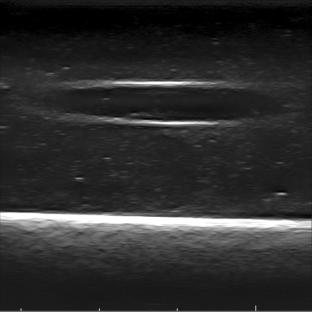vessel: (50, 79, 274, 126)
